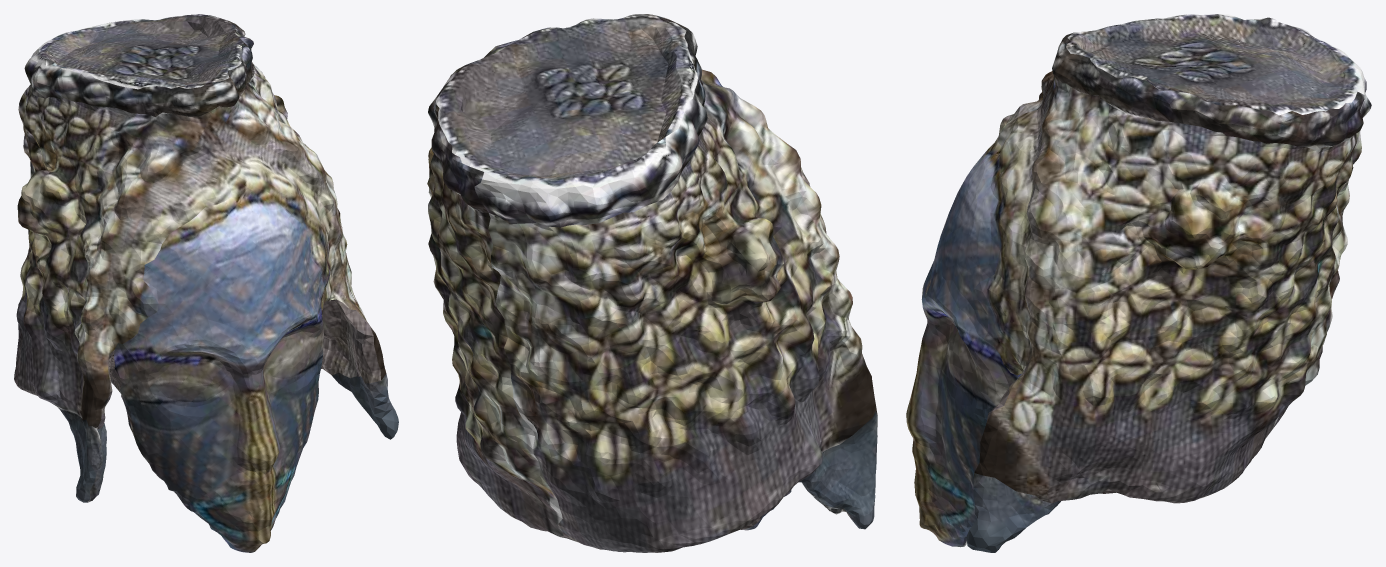
Rendered from Nkisi.glb.
The picture shows the model from 3 angles, left to right: view 1: azimuth 30°, elevation 25°; view 2: azimuth 150°, elevation 25°; view 3: azimuth 270°, elevation 25°; orthographic projection. The views are drawn at different scales.
Parts seen in each view (by area): view 1: femaleinitiation_mask; view 2: femaleinitiation_mask; view 3: femaleinitiation_mask.
Part boxes in pixels (box(x1,y1,x2,y2)): femaleinitiation_mask: box(14, 14, 398, 552); femaleinitiation_mask: box(427, 14, 877, 552); femaleinitiation_mask: box(906, 14, 1371, 552).
Size of the model in its own units: 208 by 284 by 235.
Materials: 1 (1 with a texture image).
